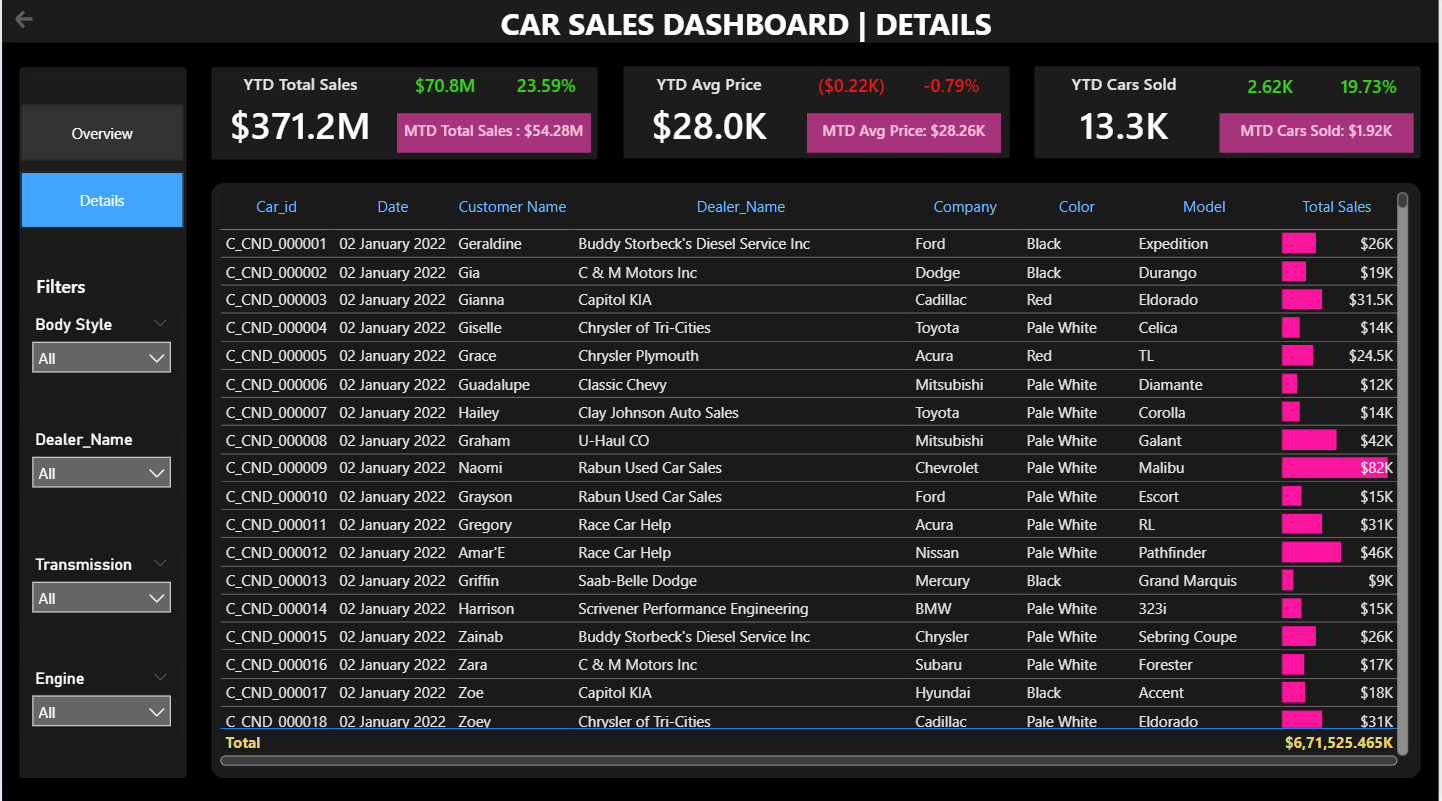

The page's visual inventory and layout, read from the dashboard file:
{"tool":"powerbi","page":{"name":"Details","canvas":[1280,720],"ordinal":1},"visuals":[{"type":"card","title":"YTD Total Sales","fields":{"Values":["car_data.YTD Total Sales"]},"box":[189.4,66.4,153.2,74.8],"z":0},{"type":"card","fields":{"Values":["car_data.Sales Difference"]},"box":[354.7,66.4,79.6,27.7],"z":1000},{"type":"card","fields":{"Values":["car_data.YoY Sales Growth"]},"box":[445.2,66.4,79.6,27.7],"z":2000},{"type":"card","fields":{"Values":["car_data.MTD KPI"]},"box":[352.3,103.8,172.5,35],"z":3000},{"type":"card","title":"YTD Avg Price","fields":{"Values":["car_data.YTD Avg Price"]},"box":[553.8,66.4,153.2,74.8],"z":4000},{"type":"card","fields":{"Values":["car_data.Avg Price Difference"]},"box":[716.6,66.4,79.6,27.7],"z":5000},{"type":"card","fields":{"Values":["car_data.YoY Avg Price Growth"]},"box":[805.9,66.4,79.6,27.7],"z":6000},{"type":"card","fields":{"Values":["car_data.MTD Avg Price KPI"]},"box":[716.6,103.8,172.5,35],"z":7000},{"type":"card","title":"YTD Cars Sold","fields":{"Values":["car_data.YTD Cars Sold"]},"box":[922.9,66.4,153.2,74.8],"z":8000},{"type":"card","fields":{"Values":["car_data.Cars Sold Difference"]},"box":[1089.4,67.6,79.6,27.7],"z":9000},{"type":"card","fields":{"Values":["car_data.YoY Car Sold Growth"]},"box":[1177.5,67.6,79.6,27.7],"z":10000},{"type":"card","fields":{"Values":["car_data.MTD Cars Sold KPI"]},"box":[1084.6,103.8,172.5,35],"z":11000},{"type":"textbox","box":[393.9,0,537.4,48.6],"z":12000},{"type":"slicer","fields":{"Values":["car_data.Body Style"]},"box":[17,278.4,143.5,64.4],"z":13000},{"type":"slicer","fields":{"Values":["car_data.Dealer_Name"]},"box":[17,380.5,143.5,64.4],"z":14000},{"type":"slicer","fields":{"Values":["car_data.Transmission"]},"box":[17,492.4,143.5,64.4],"z":15000},{"type":"slicer","fields":{"Values":["car_data.Engine"]},"box":[17,593.3,143.5,64.4],"z":16000},{"type":"textbox","box":[25.5,241.9,71.7,36.5],"z":17000},{"type":"tableEx","fields":{"Values":["car_data.Car_id","car_data.Date","car_data.Customer Name","car_data.Dealer_Name","car_data.Company","car_data.Color","car_data.Model","Sum(car_data.Price ($))"]},"box":[188.5,169,1068.7,520.4],"z":18000},{"type":"actionButton","box":[0,0,47.4,40.1],"z":19000},{"type":"pageNavigator","box":[16.9,95.3,146,111],"z":20000}]}

Visuals, with their boxes in screenshot pixels (x1, y1, x2, y2), scaled from the page's 1280x720 canvas onto the 1442x801 screenshot:
"YTD Total Sales" card: (left=213, top=74, right=386, bottom=157)
card - car_data.Sales Difference: (left=400, top=74, right=489, bottom=105)
card - car_data.YoY Sales Growth: (left=502, top=74, right=591, bottom=105)
card - car_data.MTD KPI: (left=397, top=115, right=591, bottom=154)
"YTD Avg Price" card: (left=624, top=74, right=796, bottom=157)
card - car_data.Avg Price Difference: (left=807, top=74, right=897, bottom=105)
card - car_data.YoY Avg Price Growth: (left=908, top=74, right=998, bottom=105)
card - car_data.MTD Avg Price KPI: (left=807, top=115, right=1002, bottom=154)
"YTD Cars Sold" card: (left=1040, top=74, right=1212, bottom=157)
card - car_data.Cars Sold Difference: (left=1227, top=75, right=1317, bottom=106)
card - car_data.YoY Car Sold Growth: (left=1327, top=75, right=1416, bottom=106)
card - car_data.MTD Cars Sold KPI: (left=1222, top=115, right=1416, bottom=154)
textbox: (left=444, top=0, right=1049, bottom=54)
slicer - car_data.Body Style: (left=19, top=310, right=181, bottom=381)
slicer - car_data.Dealer_Name: (left=19, top=423, right=181, bottom=495)
slicer - car_data.Transmission: (left=19, top=548, right=181, bottom=619)
slicer - car_data.Engine: (left=19, top=660, right=181, bottom=732)
textbox: (left=29, top=269, right=110, bottom=310)
tableEx - car_data.Car_id x car_data.Date: (left=212, top=188, right=1416, bottom=767)
actionButton: (left=0, top=0, right=53, bottom=45)
pageNavigator: (left=19, top=106, right=184, bottom=230)
